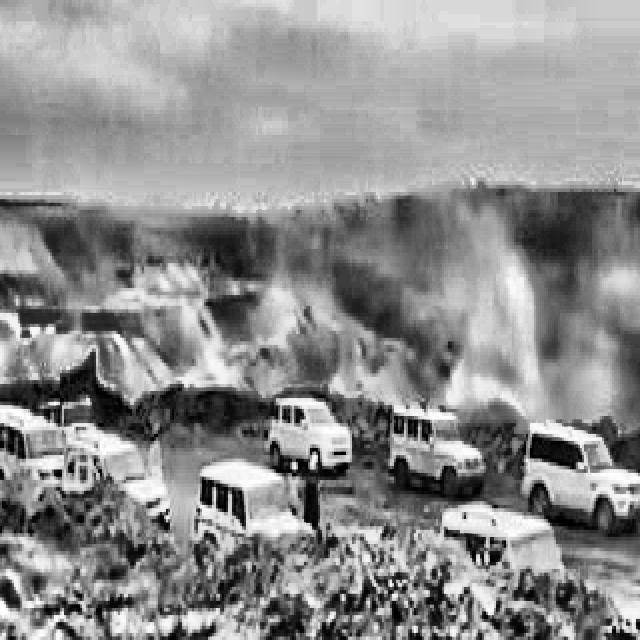light_vehicle: (194, 453, 306, 576), (524, 412, 640, 530), (387, 396, 488, 486), (269, 386, 360, 470)
